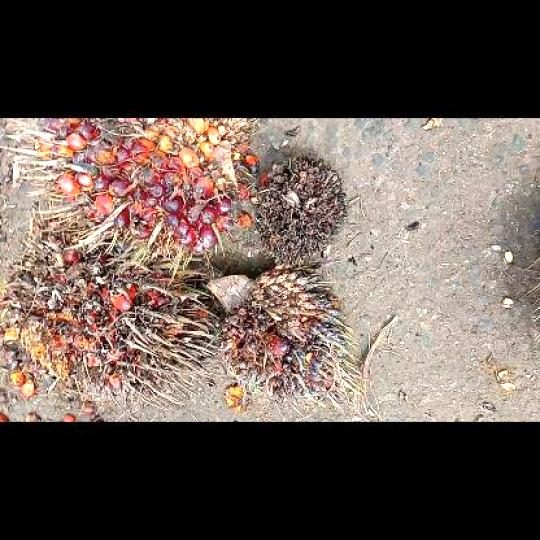masak: (22, 117, 258, 267)
terlalu masak: (0, 214, 221, 412)
